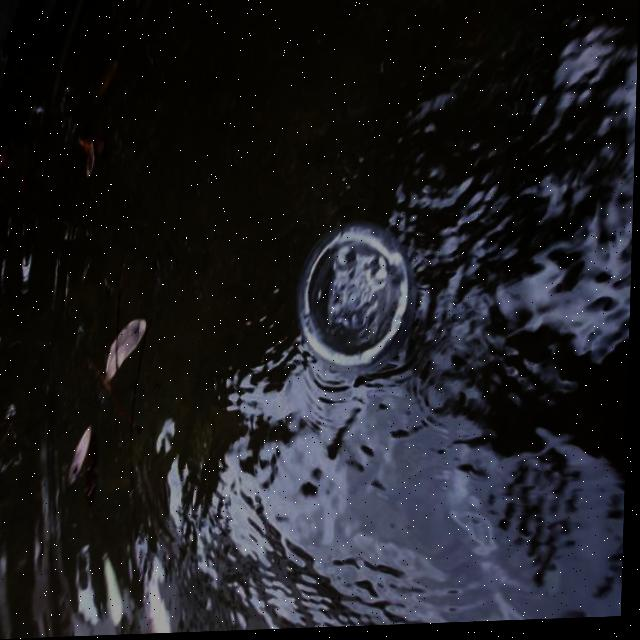leaf: (56, 420, 125, 529), (94, 315, 174, 390)
waterbottle: (286, 178, 462, 422)
